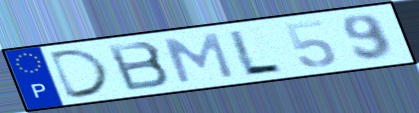5: (281, 17, 339, 69)
9: (340, 13, 395, 63)
B: (104, 39, 173, 93)
D: (47, 46, 115, 101)
L: (225, 27, 286, 76)
M: (161, 31, 238, 85)
